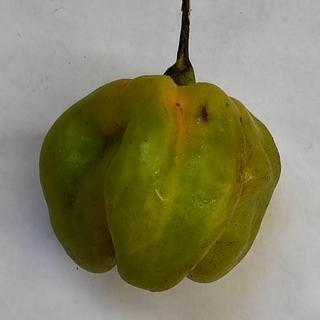Defect: (195, 100, 216, 125)
Fly-bites: (221, 97, 237, 113), (171, 98, 186, 113), (235, 115, 248, 126)
